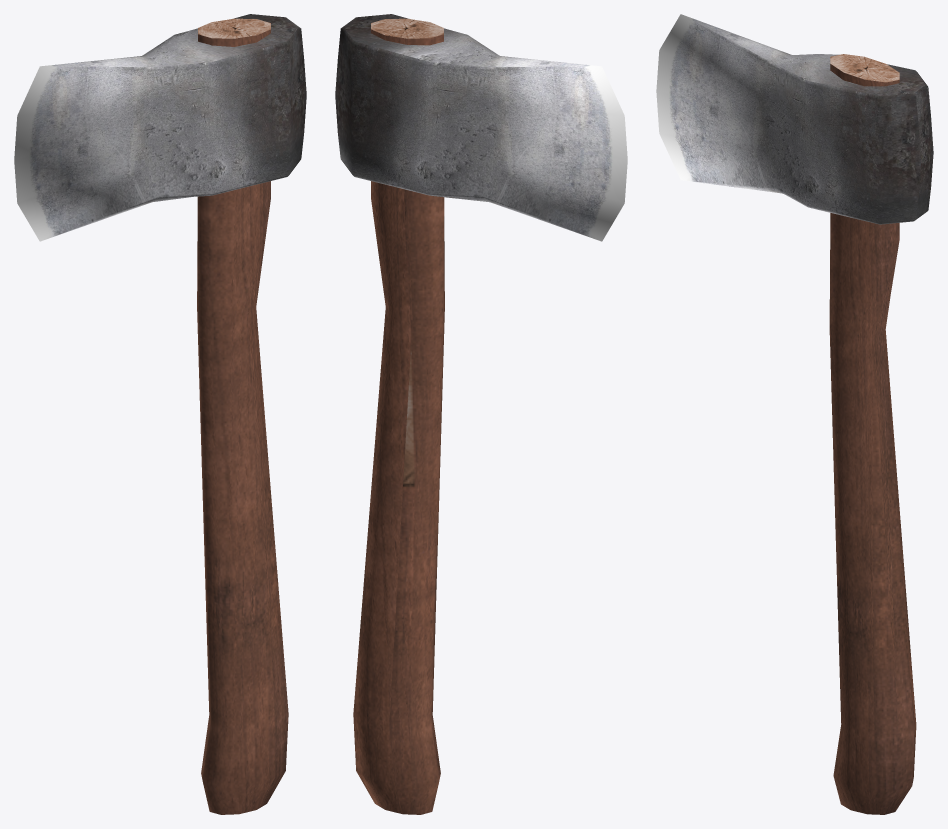
The model's file is Hachademano.FBX.
3 renders of one model, left to right at view 1: azimuth 30°, elevation 25°; view 2: azimuth 150°, elevation 25°; view 3: azimuth 330°, elevation 25°, orthographic. The views are drawn at different scales.
Visible parts, largest first — view 1: Hachademano; view 2: Hachademano; view 3: Hachademano.
Part boxes in pixels (bbox=[...]): Hachademano: bbox=[14, 14, 306, 814]; Hachademano: bbox=[335, 14, 627, 814]; Hachademano: bbox=[656, 14, 933, 814].
Size of the model in its own units: 18.4 by 48.37 by 4.41.
